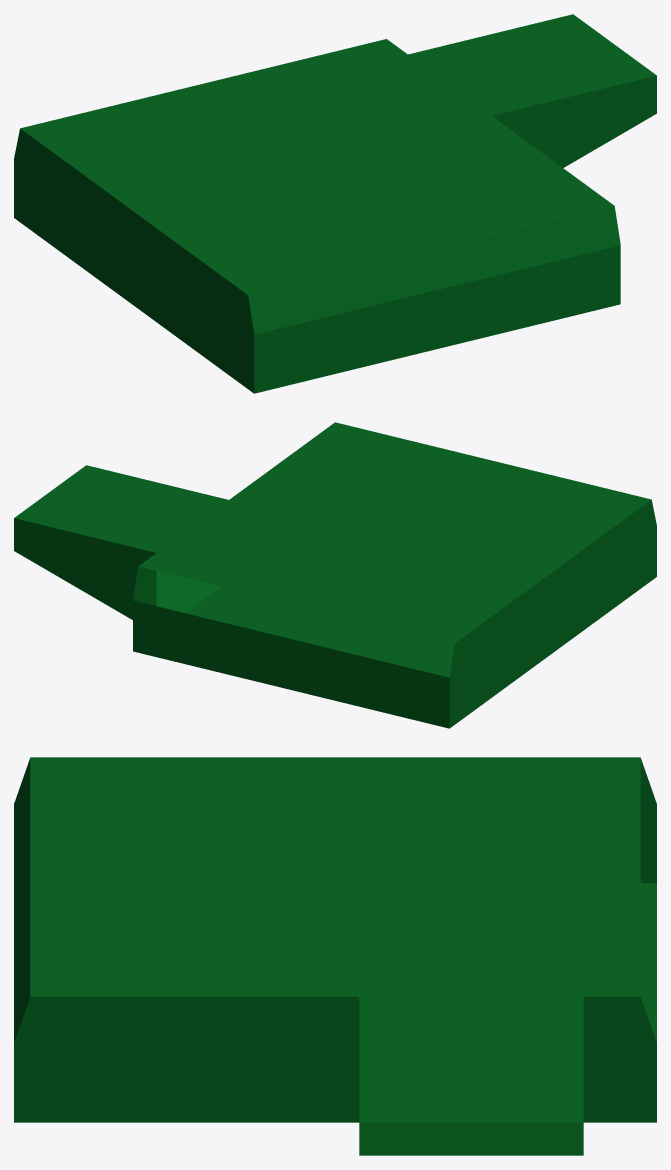
The model's file is C_Exterior.FBX.
3 views of the same model, one above another, from view 1: azimuth 30°, elevation 25°; view 2: azimuth 150°, elevation 25°; view 3: azimuth 270°, elevation 25° (orthographic). The views are drawn at different scales.
Visible parts, largest first — view 1: CaixaEXT_peke; view 2: CaixaEXT_peke; view 3: CaixaEXT_peke.
Part boxes in pixels (box(x1,y1,x2,y2)): CaixaEXT_peke: box(14, 14, 656, 393); CaixaEXT_peke: box(14, 422, 656, 728); CaixaEXT_peke: box(14, 757, 656, 1155).
Size of the model in its own units: 5235 by 884 by 4096.
